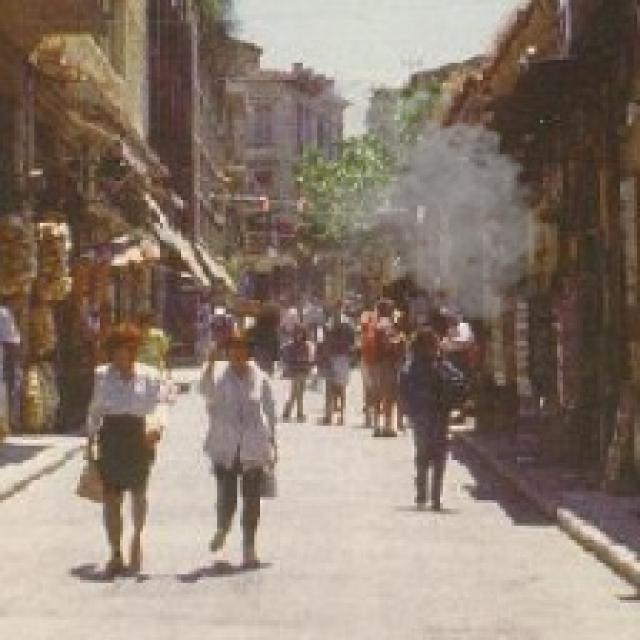Smoke: (280, 72, 563, 328)
